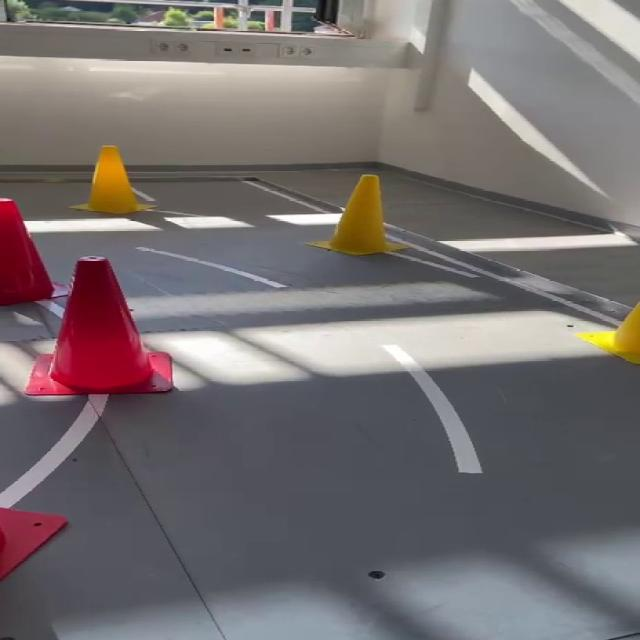Cone-red: (25, 256, 172, 396), (0, 198, 58, 305), (0, 507, 66, 580)
Cones-yellow: (310, 175, 408, 255), (73, 145, 153, 215), (578, 302, 639, 364)
